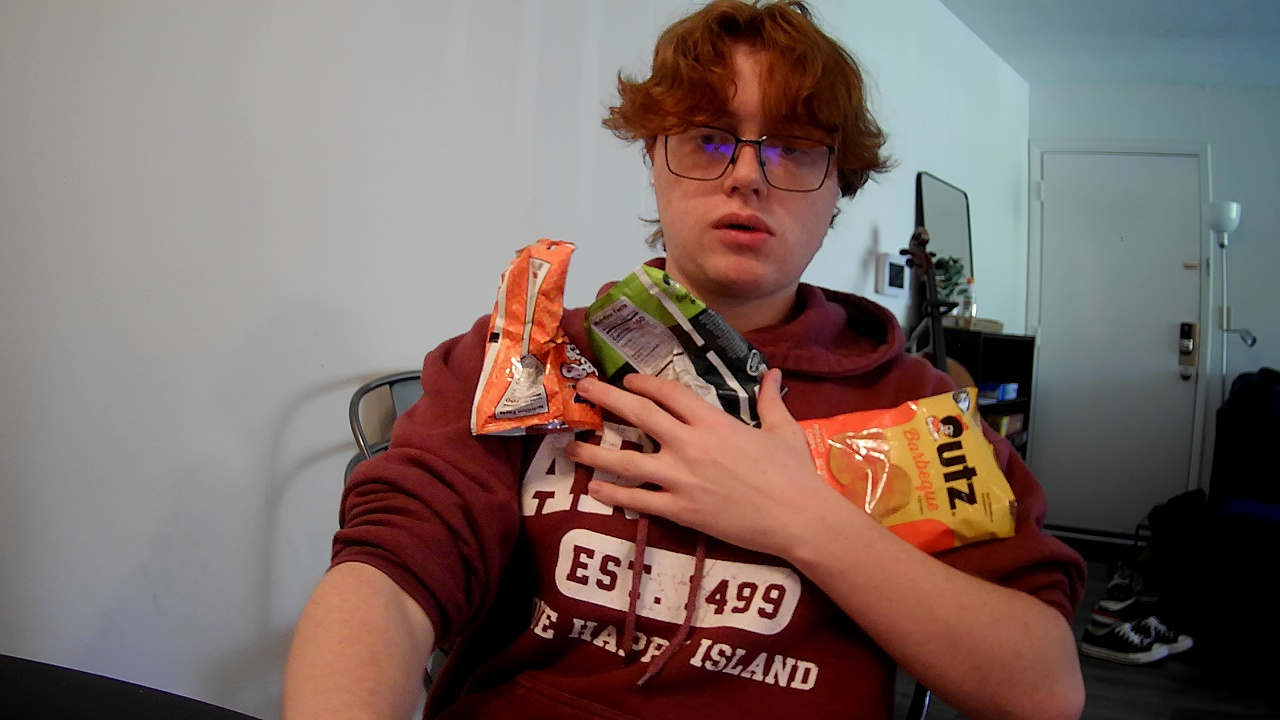trash: (581, 261, 799, 454), (786, 379, 1017, 550), (463, 232, 617, 480)
